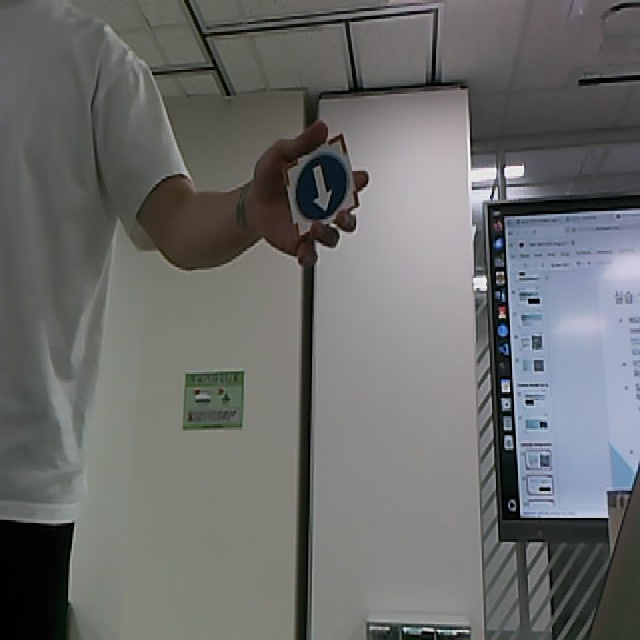straight: (282, 135, 360, 235)
